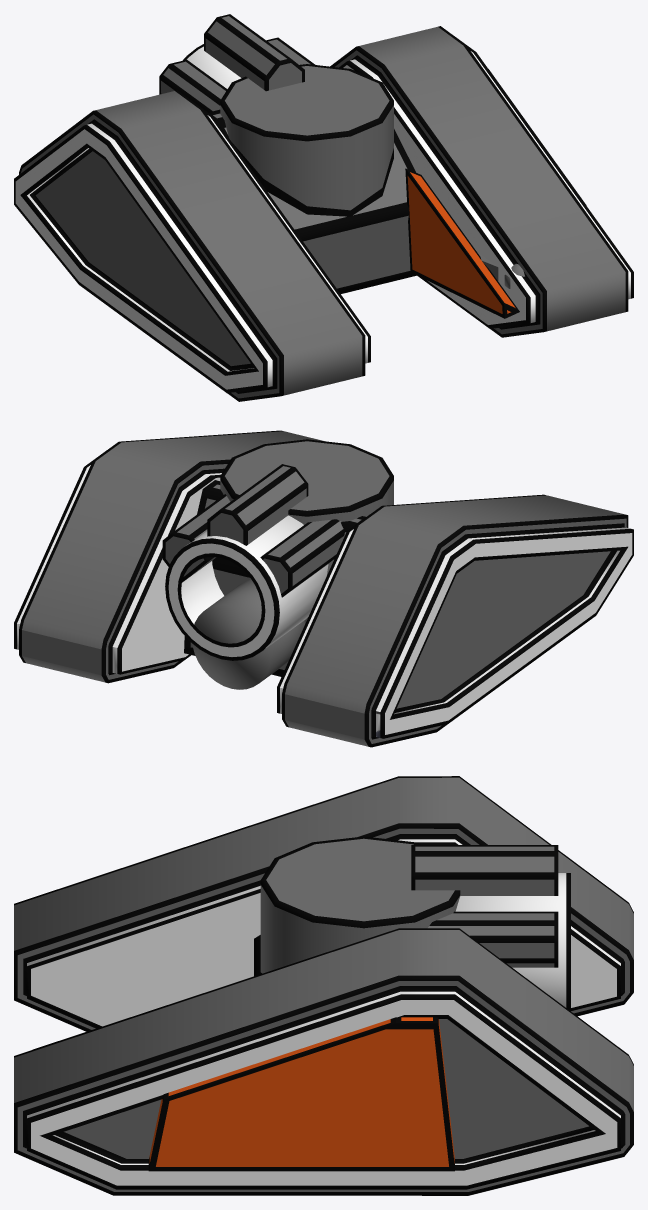
The model's file is Player Tank Chassis Debris Model.fbx.
3 views of the same model, one above another, from view 1: azimuth 30°, elevation 25°; view 2: azimuth 150°, elevation 25°; view 3: azimuth 270°, elevation 25° (orthographic). The views are drawn at different scales.
Parts seen in each view (by area): view 1: Tank Chassis Debris.008, Tank Chassis Debris.007, Tank Chassis Debris, Tank Chassis Debris.006, Ram_Inside_3, Tank Chassis Debris.005, Tank Chassis Debris.003, Tank Chassis Debris.001; view 2: Tank Chassis Debris.008, Tank Chassis Debris.007, Tank Chassis Debris.001, Tank Chassis Debris, Tank Chassis Debris.002, Tank Chassis Debris.005, Tank Chassis Debris.003, Tank Chassis Debris.006, Tank Chassis Debris.004; view 3: Tank Chassis Debris.007, Tank Chassis Debris.008, Ram_Outside_3, Tank Chassis Debris, Tank Chassis Debris.005, Tank Chassis Debris.004, Tank Chassis Debris.001.
Part boxes in pixels (left/top/right/bottom): Tank Chassis Debris.008: left=14, top=90, right=370, bottom=401; Tank Chassis Debris.007: left=330, top=26, right=633, bottom=337; Tank Chassis Debris: left=220, top=64, right=393, bottom=216; Tank Chassis Debris.006: left=208, top=109, right=416, bottom=293; Ram_Inside_3: left=405, top=168, right=519, bottom=318; Tank Chassis Debris.005: left=204, top=14, right=304, bottom=91; Tank Chassis Debris.003: left=159, top=59, right=227, bottom=112; Tank Chassis Debris.001: left=183, top=44, right=241, bottom=88; Tank Chassis Debris.008: left=277, top=494, right=633, bottom=747; Tank Chassis Debris.007: left=14, top=430, right=324, bottom=683; Tank Chassis Debris.001: left=165, top=515, right=328, bottom=660; Tank Chassis Debris: left=220, top=439, right=393, bottom=524; Tank Chassis Debris.002: left=192, top=579, right=304, bottom=689; Tank Chassis Debris.005: left=207, top=464, right=308, bottom=545; Tank Chassis Debris.003: left=260, top=519, right=344, bottom=597; Tank Chassis Debris.006: left=184, top=480, right=365, bottom=676; Tank Chassis Debris.004: left=162, top=494, right=230, bottom=582; Tank Chassis Debris.007: left=14, top=928, right=633, bottom=1195; Tank Chassis Debris.008: left=14, top=776, right=633, bottom=1031; Ram_Outside_3: left=148, top=1017, right=454, bottom=1171; Tank Chassis Debris: left=260, top=836, right=460, bottom=973; Tank Chassis Debris.005: left=411, top=845, right=558, bottom=895; Tank Chassis Debris.004: left=428, top=911, right=558, bottom=967; Tank Chassis Debris.001: left=455, top=873, right=570, bottom=1011.
Bounding box in the file's own units: 2.59 × 3.09 × 1.35.
